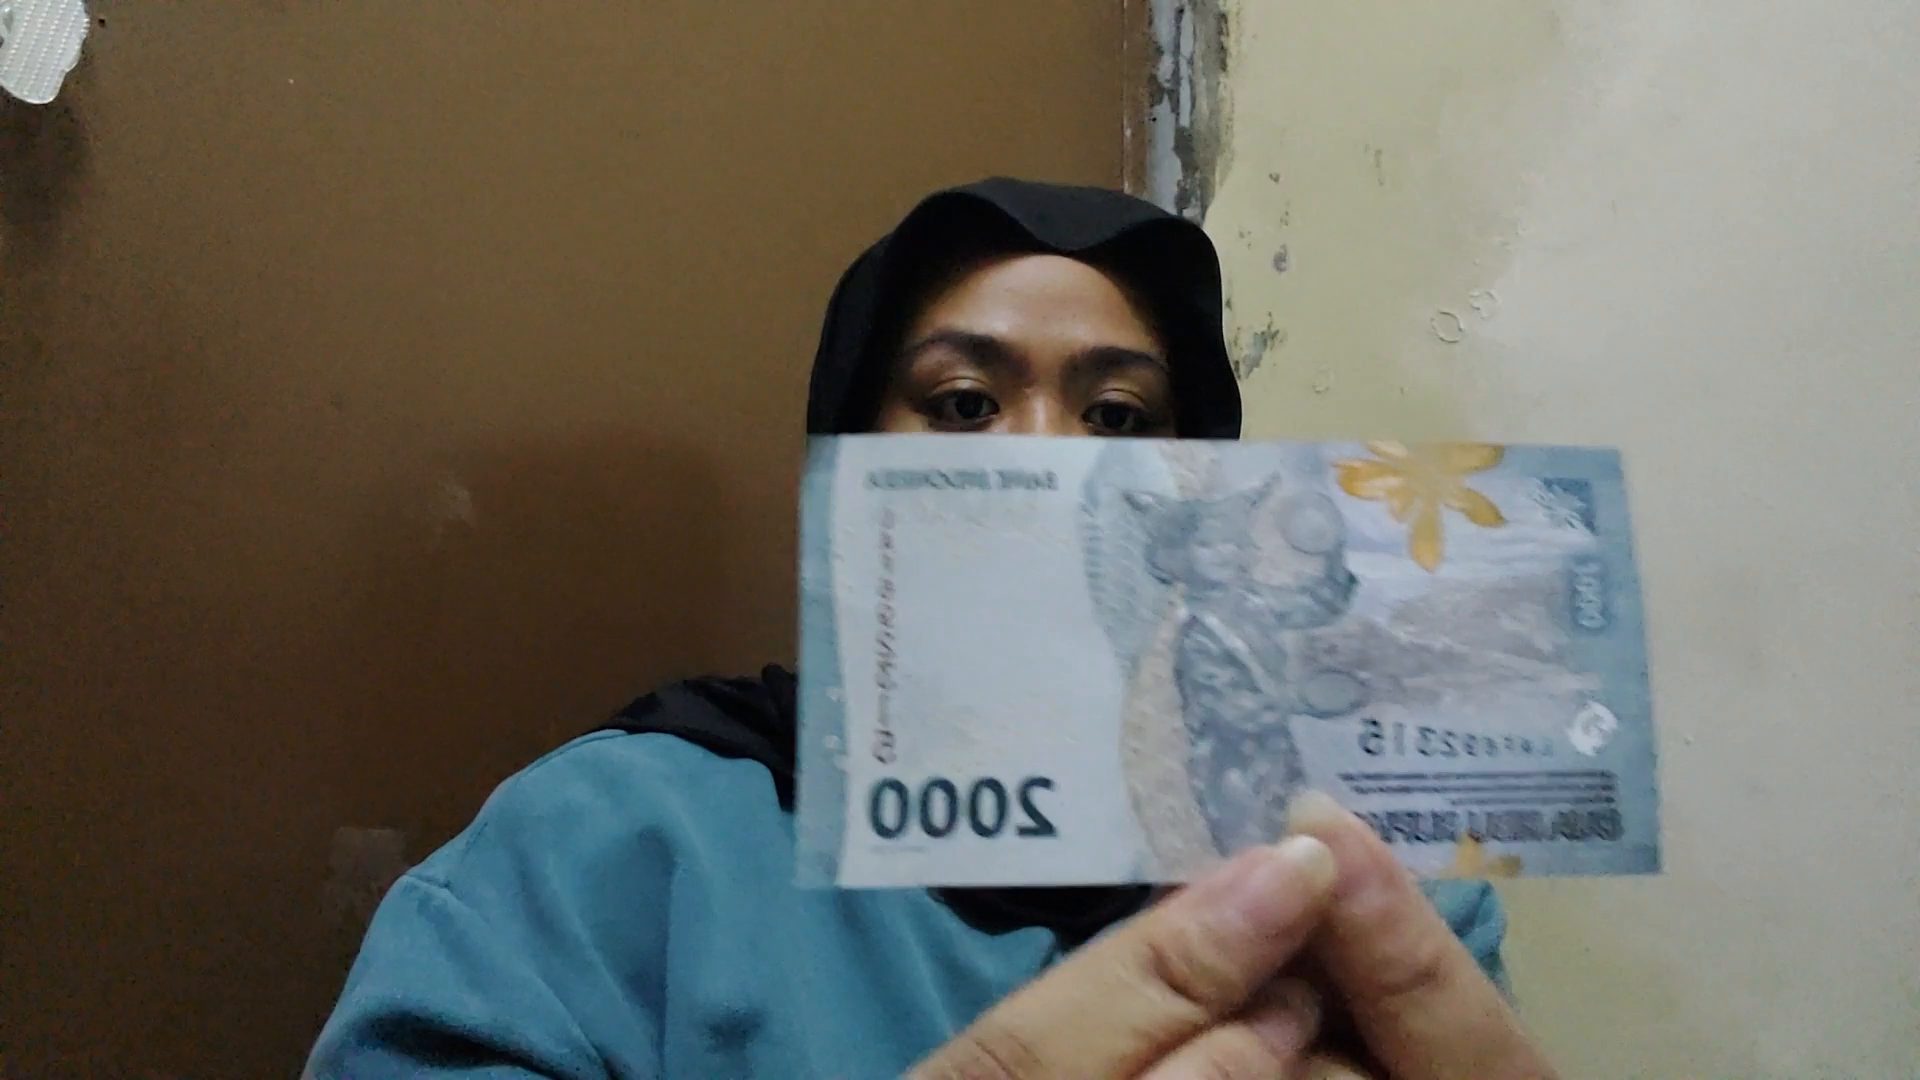2k: (807, 435, 1689, 877)
